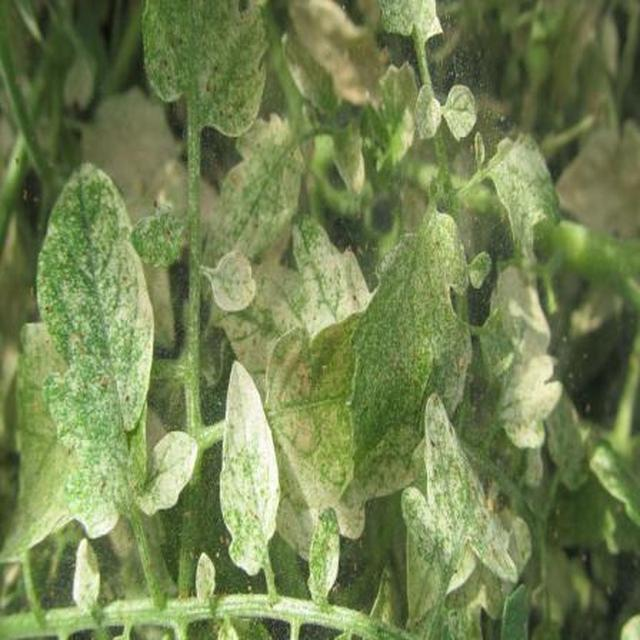Spider Mites Leaf: (90, 317, 584, 640)
